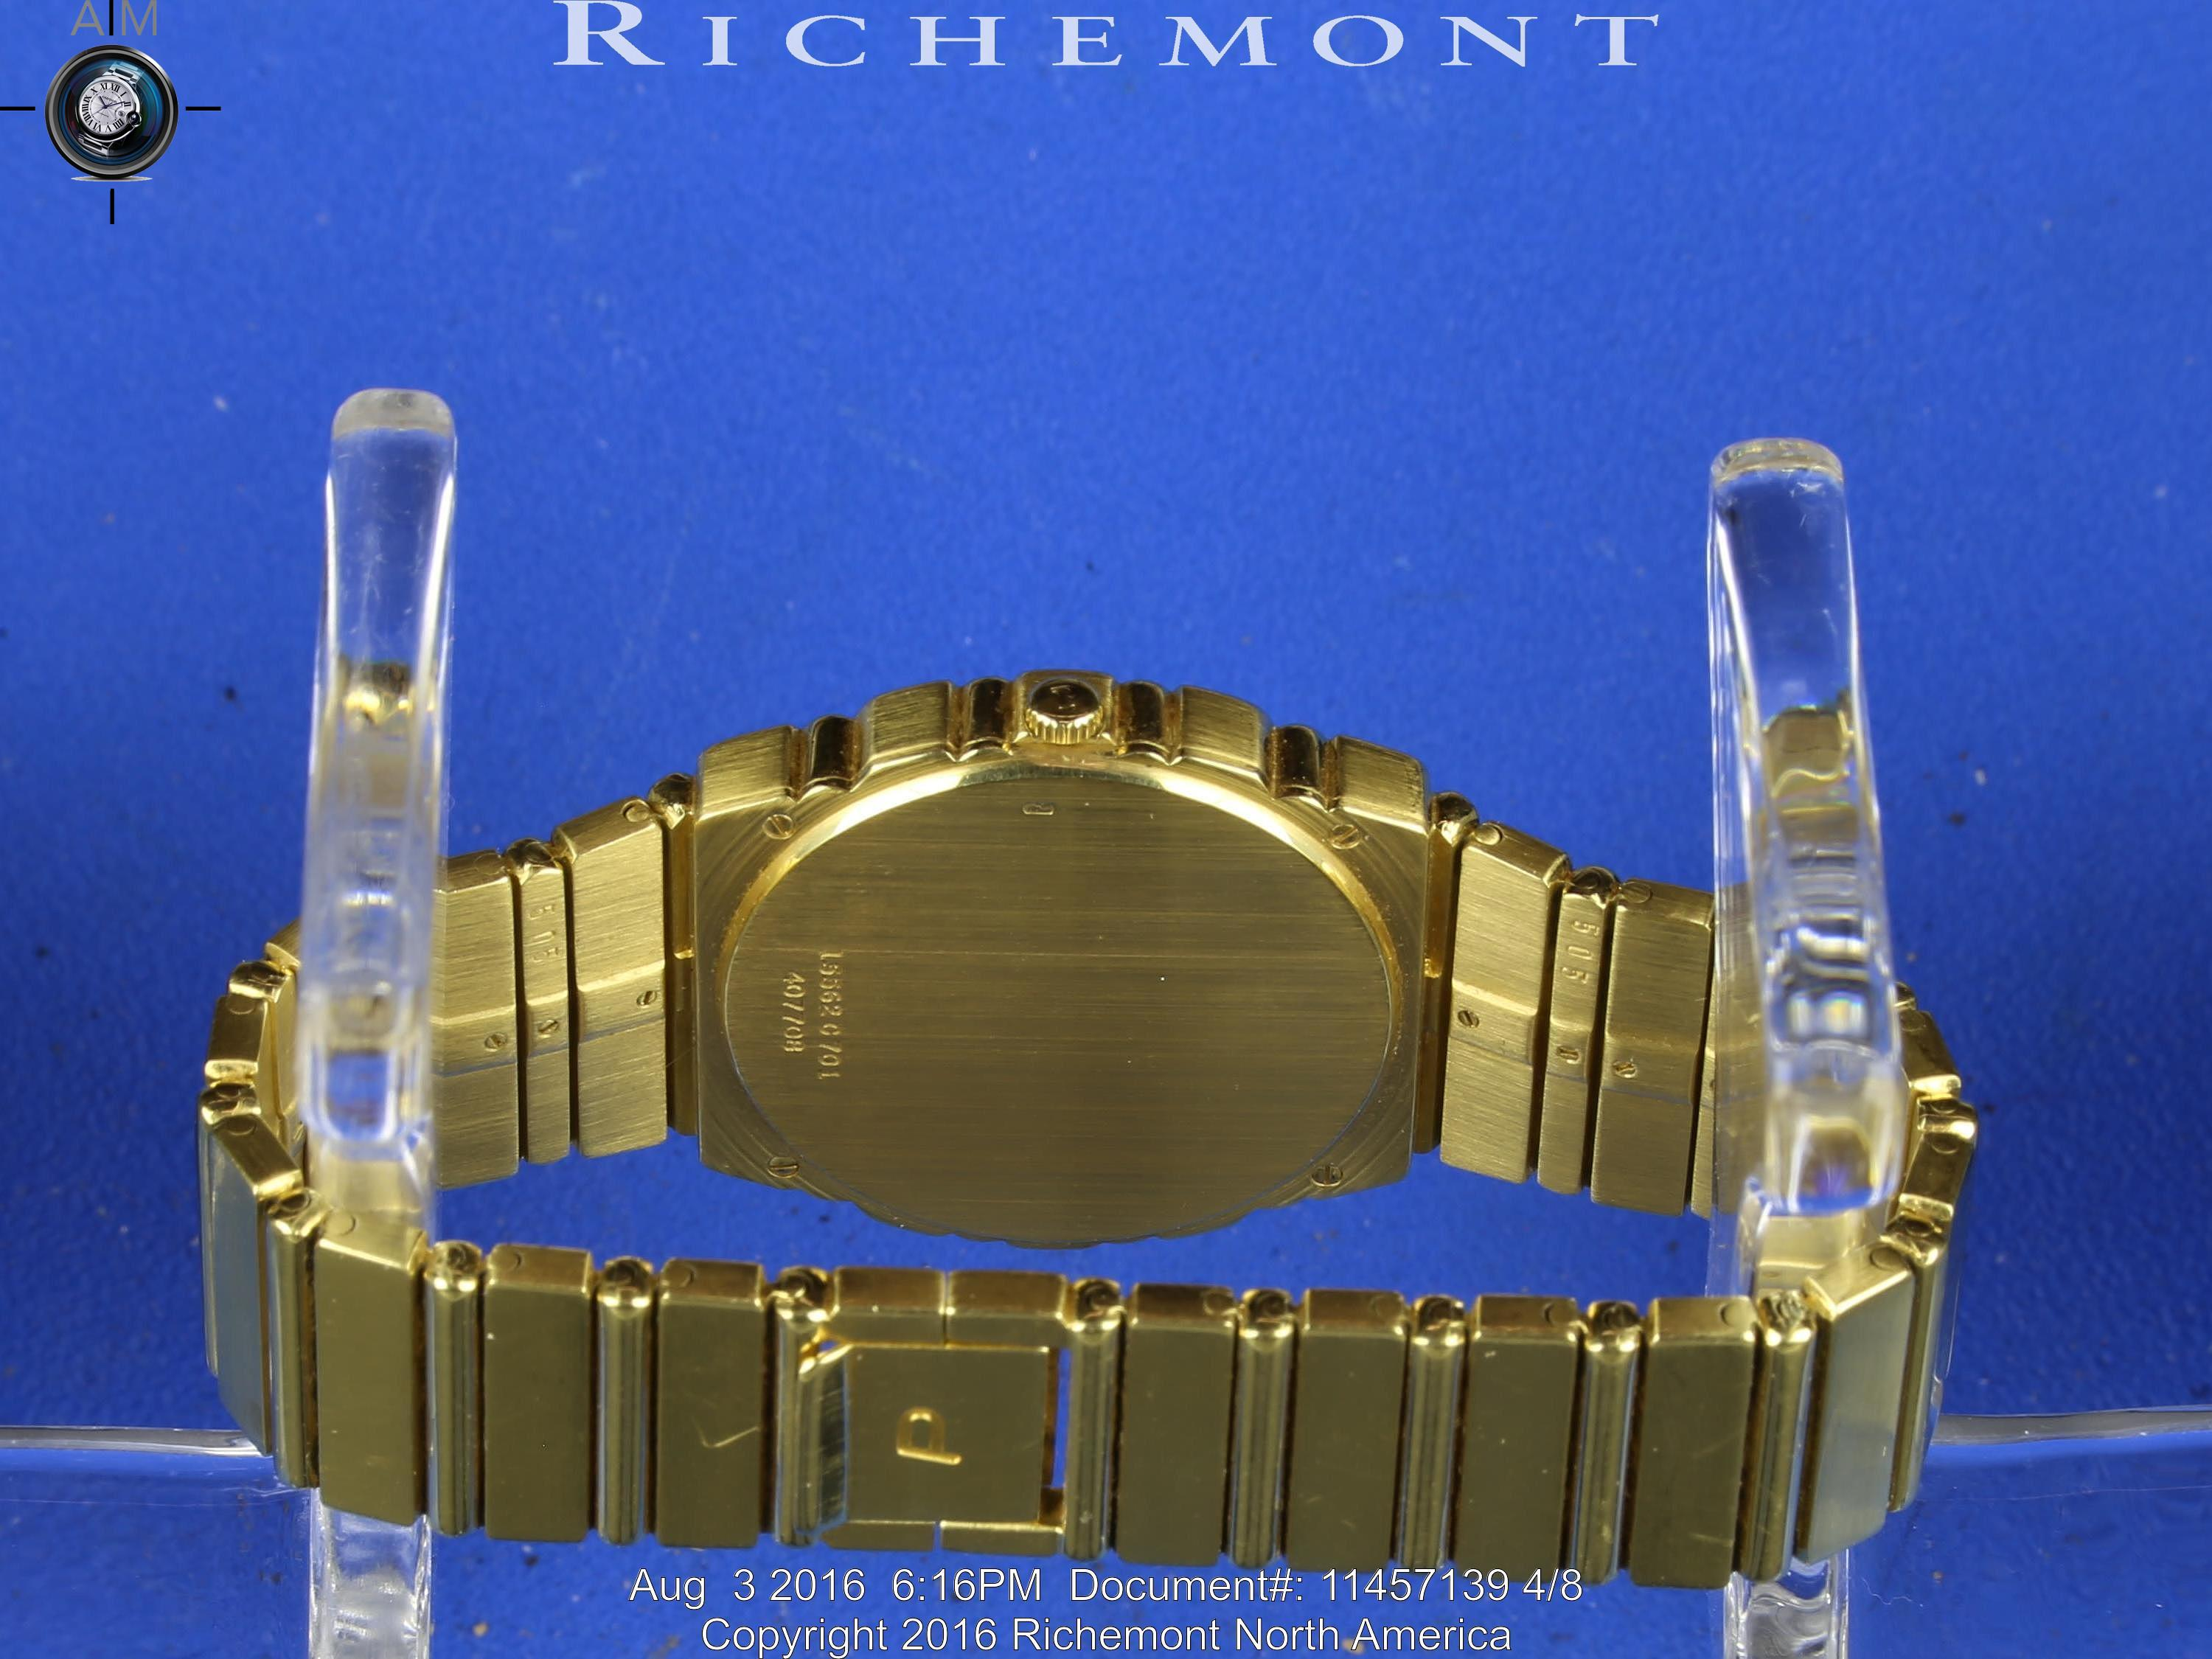Watch BackCase: (678, 653, 1446, 1246)
